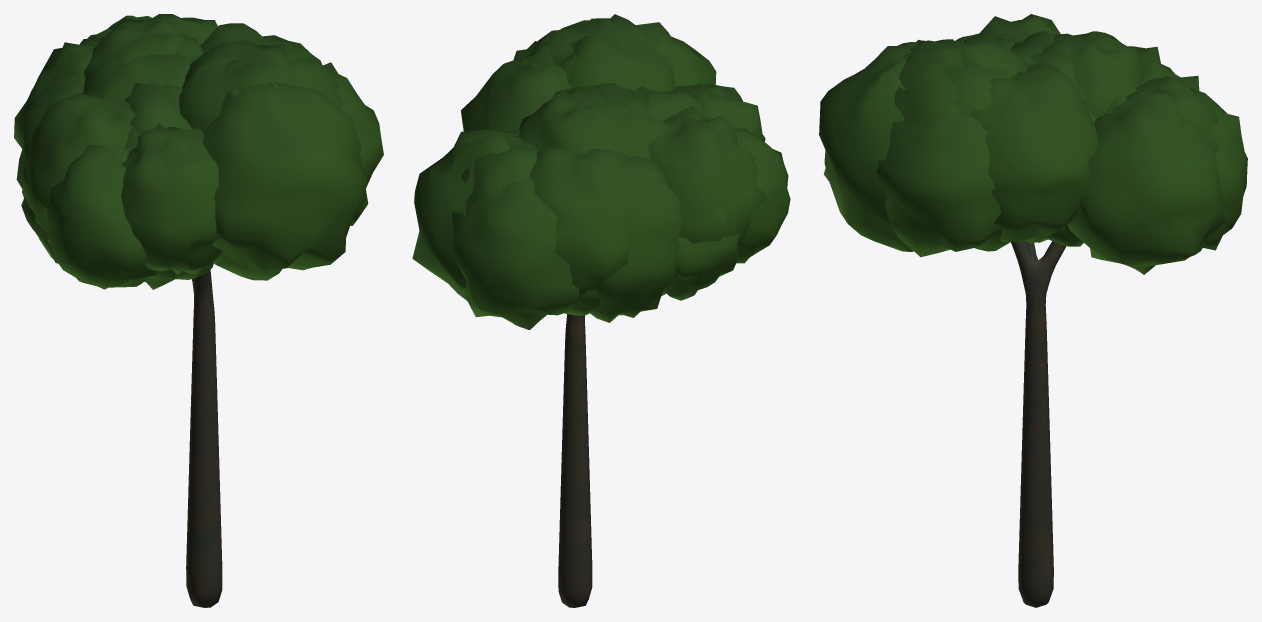
File: SM_Tree_Broadleaf_B.fbx
3 renders of one model, left to right at view 1: azimuth 30°, elevation 25°; view 2: azimuth 150°, elevation 25°; view 3: azimuth 270°, elevation 25°, orthographic. The views are drawn at different scales.
Visible parts, largest first — view 1: SM_Tree_Broadleaf_B; view 2: SM_Tree_Broadleaf_B; view 3: SM_Tree_Broadleaf_B.
Boxes of the visible parts, bbox=[...] form: SM_Tree_Broadleaf_B: bbox=[14, 14, 383, 607]; SM_Tree_Broadleaf_B: bbox=[412, 14, 790, 607]; SM_Tree_Broadleaf_B: bbox=[819, 14, 1247, 607].
Bounding box in the file's own units: 7.63 × 13.66 × 9.31.
